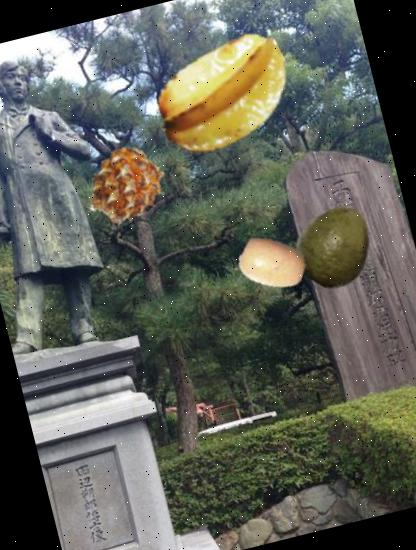Carambula: (140, 11, 310, 180)
Guava: (284, 194, 388, 297)
Kumquats: (232, 223, 313, 304)
Pineapple: (79, 138, 176, 236)
